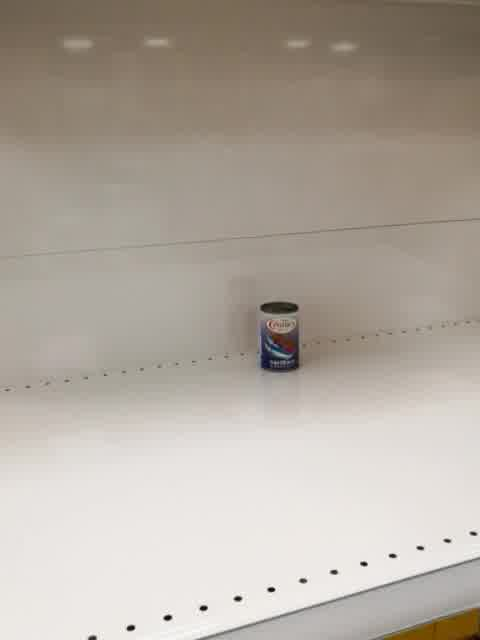sardine: (258, 301, 301, 373)
